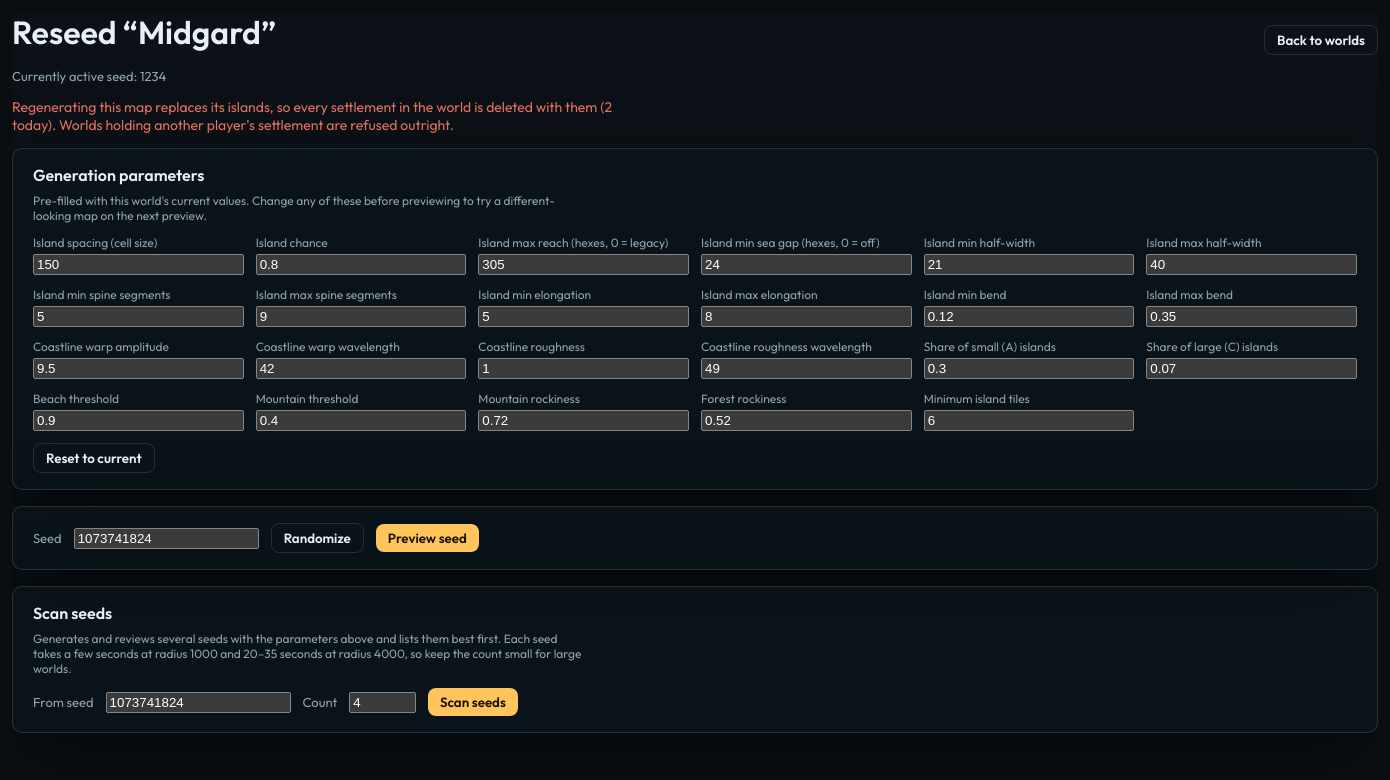
AdminWorldReseedView › restores the generation form to the world's current values on "Reset to current"
Step 1. Replace the text in the number field with id "gen-islandMinWidth" with "25.5" → point(1029, 264), box [924, 254, 1134, 275]
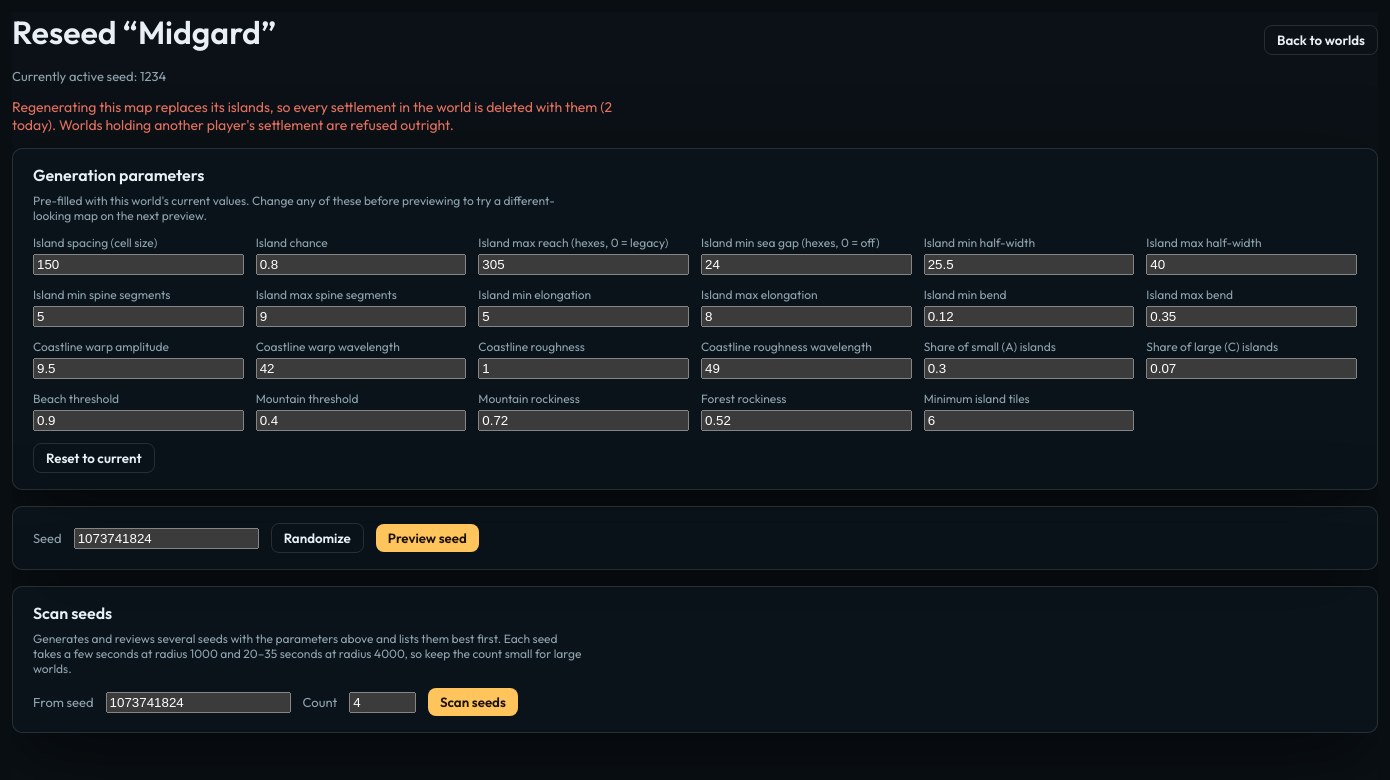
Step 2. Click the button with test id "reset-generation" → point(94, 458), box [33, 443, 155, 473]
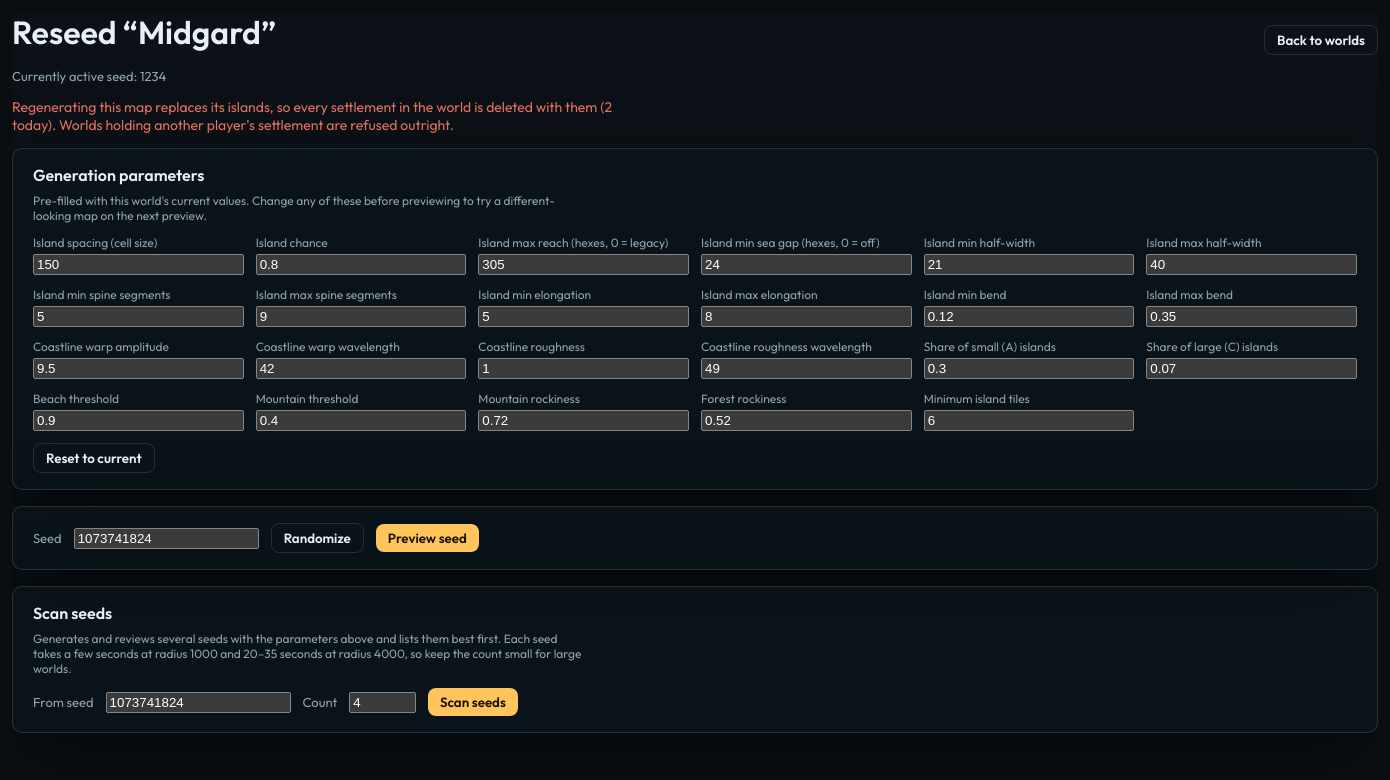
Result: the number field with id "gen-islandMinWidth" holds "21" at [924, 254, 1134, 275]
